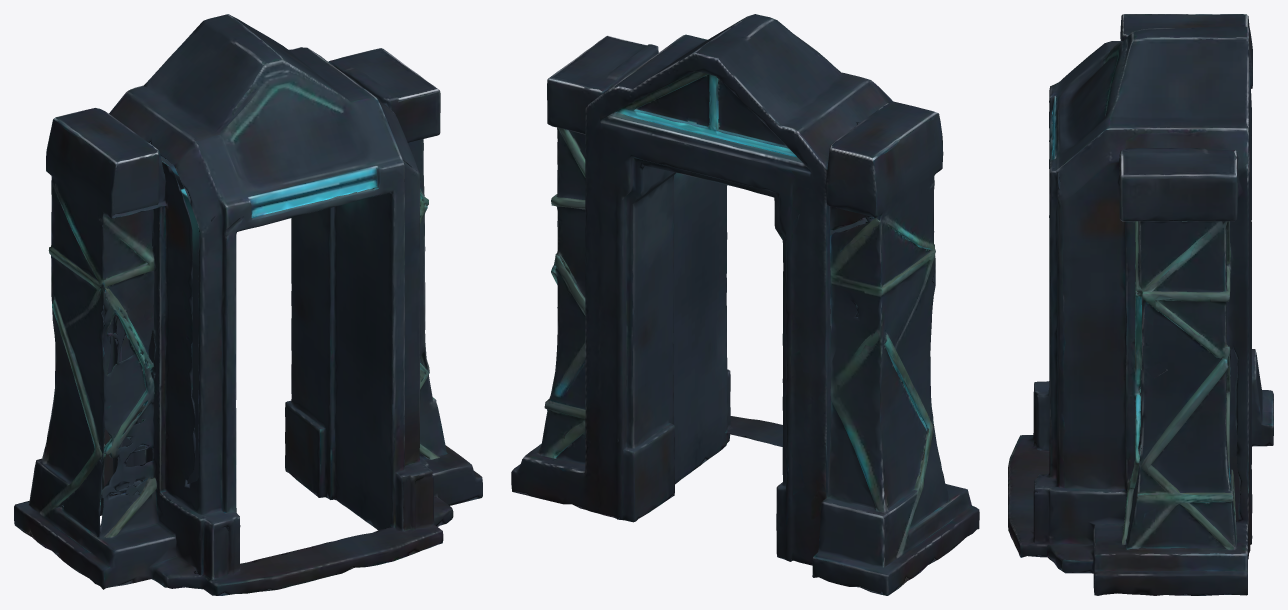
File: gate.glb
The picture shows the model from 3 angles, left to right: view 1: azimuth 30°, elevation 25°; view 2: azimuth 150°, elevation 25°; view 3: azimuth 270°, elevation 25°; orthographic projection. The views are drawn at different scales.
Parts seen in each view (by area): view 1: world; view 2: world; view 3: world.
Part boxes in pixels (box(x1,y1,x2,y2)): world: box(14, 14, 482, 595); world: box(511, 14, 979, 595); world: box(1008, 14, 1273, 595).
Size of the model in its own units: 0.8474 by 1 by 0.5121.
1 material, 1 textured.
